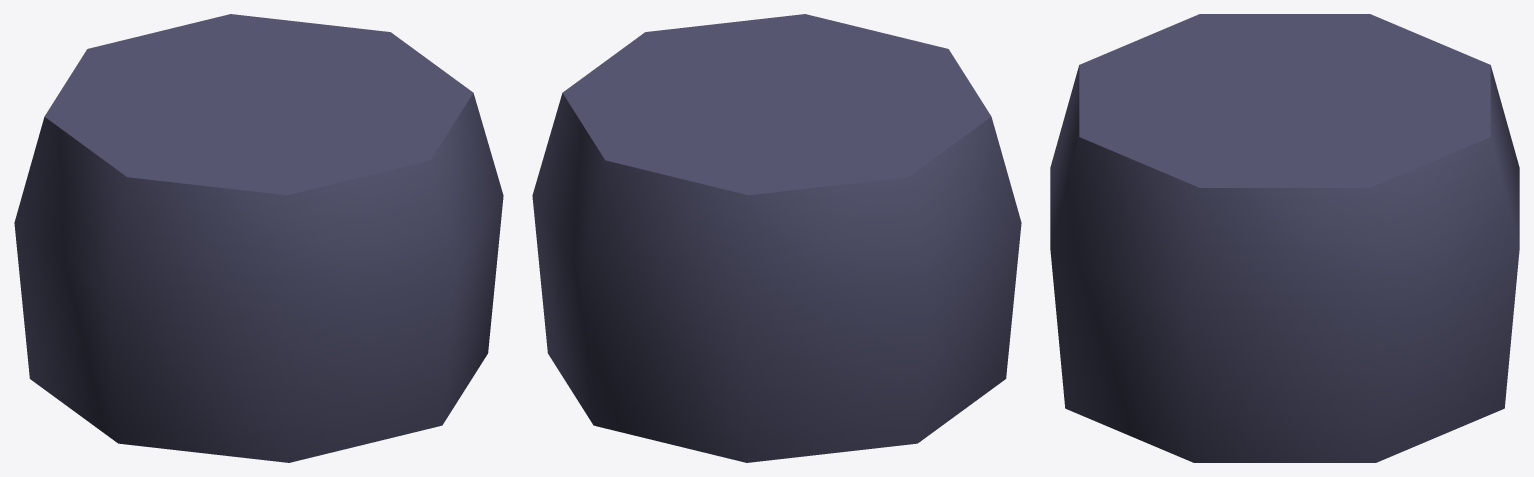
Rendered from tower-base.fbx.
The picture shows the model from 3 angles, left to right: view 1: azimuth 30°, elevation 25°; view 2: azimuth 150°, elevation 25°; view 3: azimuth 270°, elevation 25°; orthographic projection. The views are drawn at different scales.
Parts seen in each view (by area): view 1: tower-base; view 2: tower-base; view 3: tower-base.
Part boxes in pixels (x1,y1,x2,y2): tower-base: (14, 14, 503, 462); tower-base: (532, 14, 1021, 462); tower-base: (1050, 14, 1519, 462).
Bounding box in the file's own units: 316 × 200 × 316.
